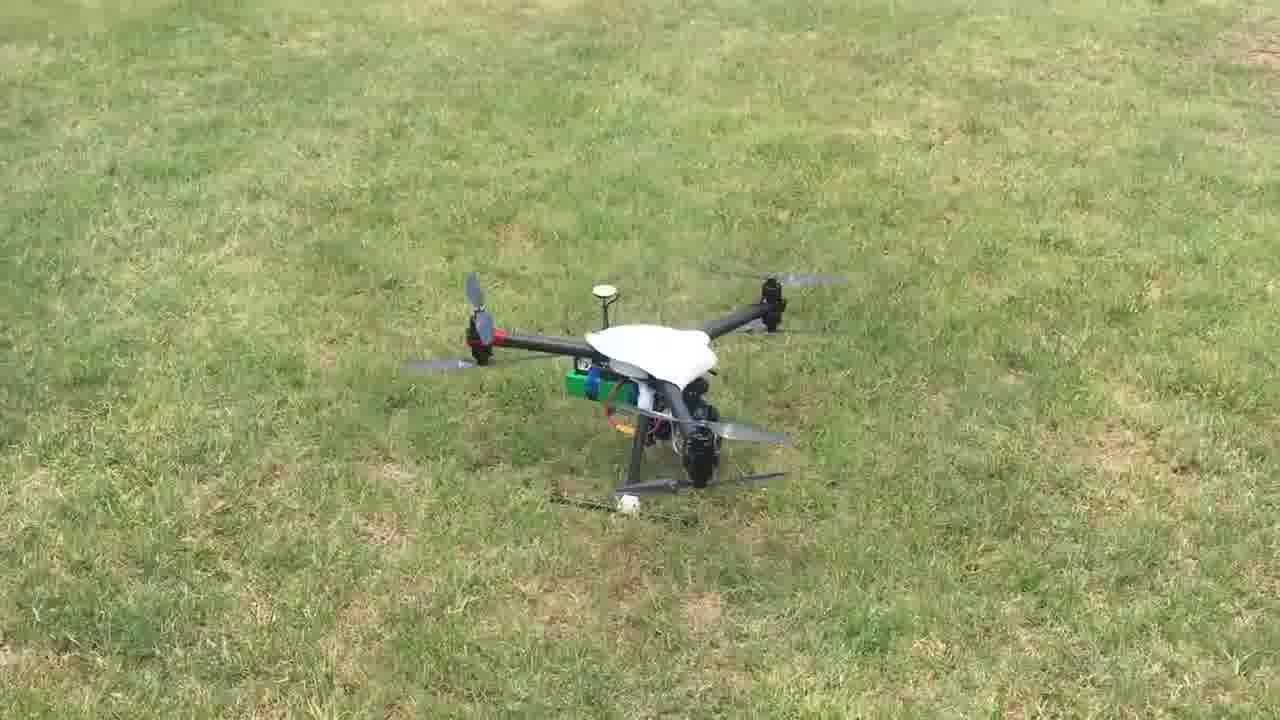drone: (442, 261, 812, 500)
